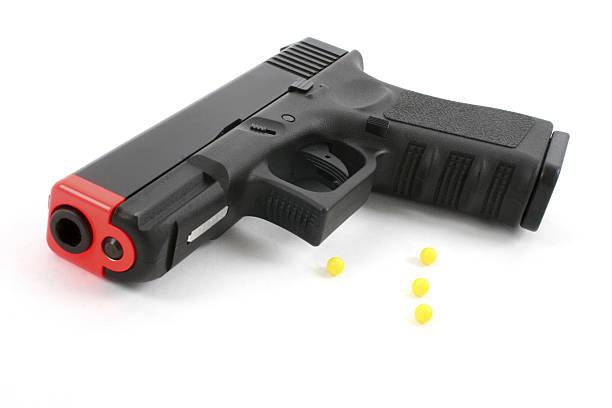weapon: (42, 29, 572, 288)
